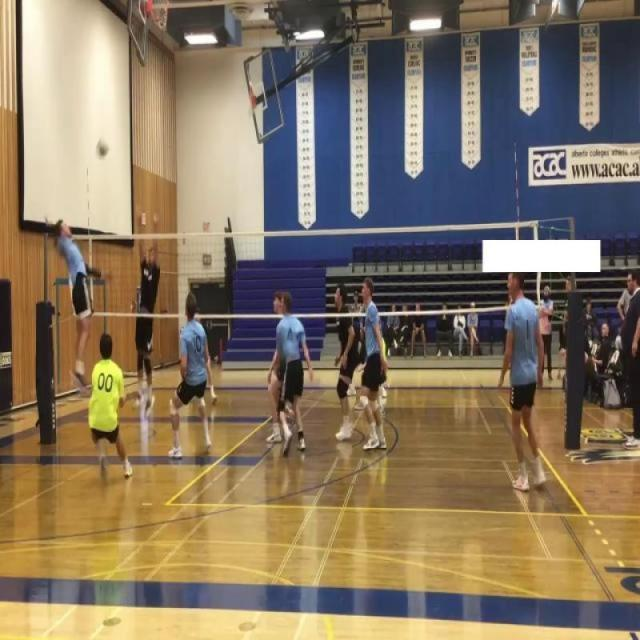volleyball: (95, 134, 111, 160)
